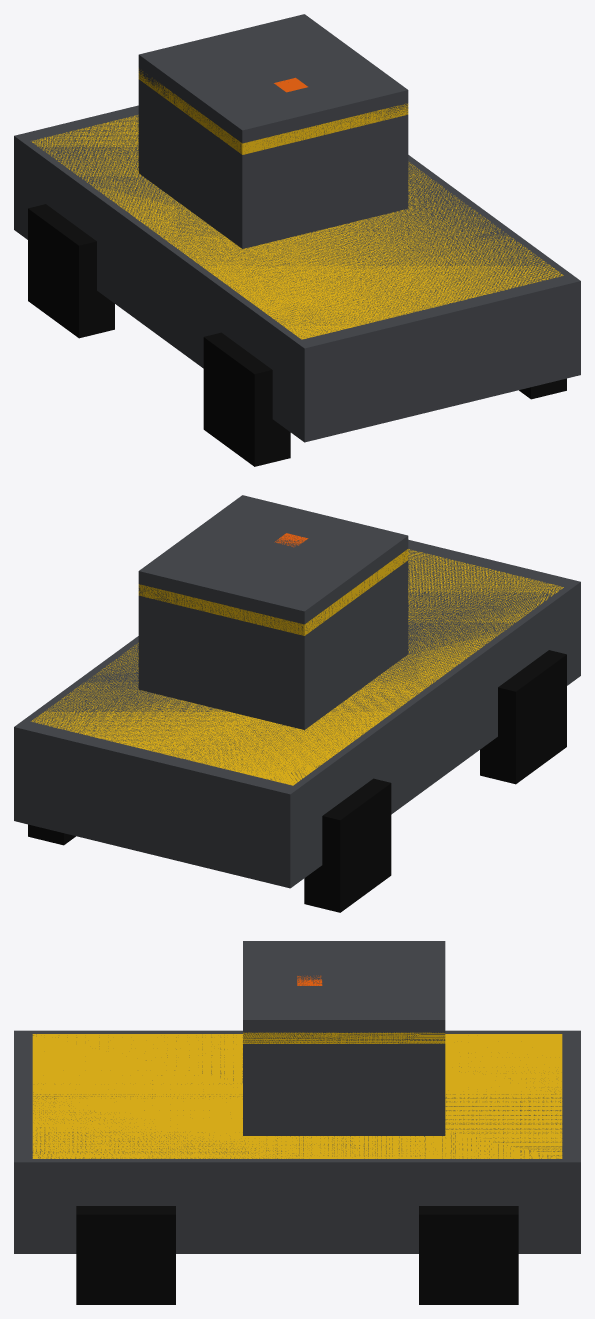
The model's file is bne_gse_pushback_yellow.dae.
3 renders of one model, top to bottom at view 1: azimuth 30°, elevation 25°; view 2: azimuth 150°, elevation 25°; view 3: azimuth 270°, elevation 25°, orthographic. The views are drawn at different scales.
Parts seen in each view (by area): view 1: Colmesh_bne_gse_pushback_yellow-1, bne_gse_pushback_yellow160, bne_gse_pushback_yellow16; view 2: Colmesh_bne_gse_pushback_yellow-1, bne_gse_pushback_yellow160, bne_gse_pushback_yellow16; view 3: Colmesh_bne_gse_pushback_yellow-1, bne_gse_pushback_yellow160, bne_gse_pushback_yellow16.
Part boxes in pixels (x1=…): Colmesh_bne_gse_pushback_yellow-1: x1=14, y1=14, x2=580, y2=441; bne_gse_pushback_yellow160: x1=14, y1=69, x2=580, y2=448; bne_gse_pushback_yellow16: x1=28, y1=204, x2=566, y2=466; Colmesh_bne_gse_pushback_yellow-1: x1=14, y1=495, x2=580, y2=887; bne_gse_pushback_yellow160: x1=14, y1=533, x2=580, y2=894; bne_gse_pushback_yellow16: x1=28, y1=650, x2=566, y2=912; Colmesh_bne_gse_pushback_yellow-1: x1=14, y1=941, x2=580, y2=1253; bne_gse_pushback_yellow160: x1=14, y1=975, x2=580, y2=1304; bne_gse_pushback_yellow16: x1=76, y1=1206, x2=518, y2=1304.
Size of the model in its own units: 2.26 by 3.64 by 1.77.
